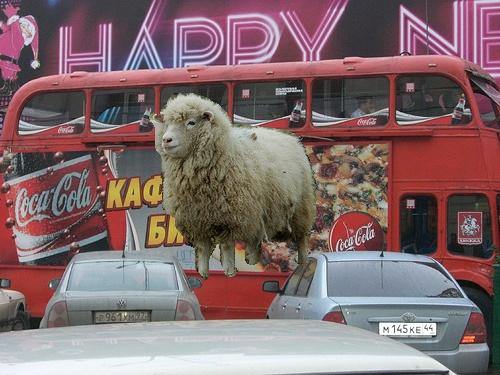tampered: (150, 94, 316, 280)
